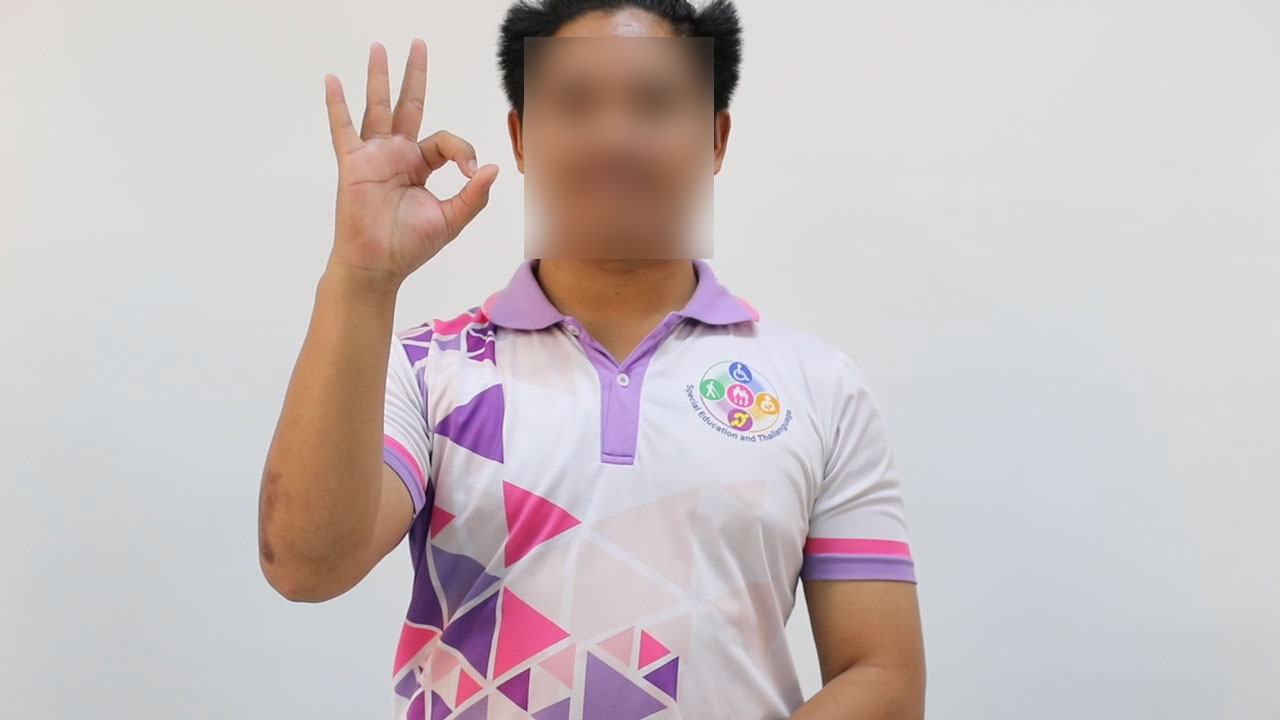for: (303, 24, 507, 304)
